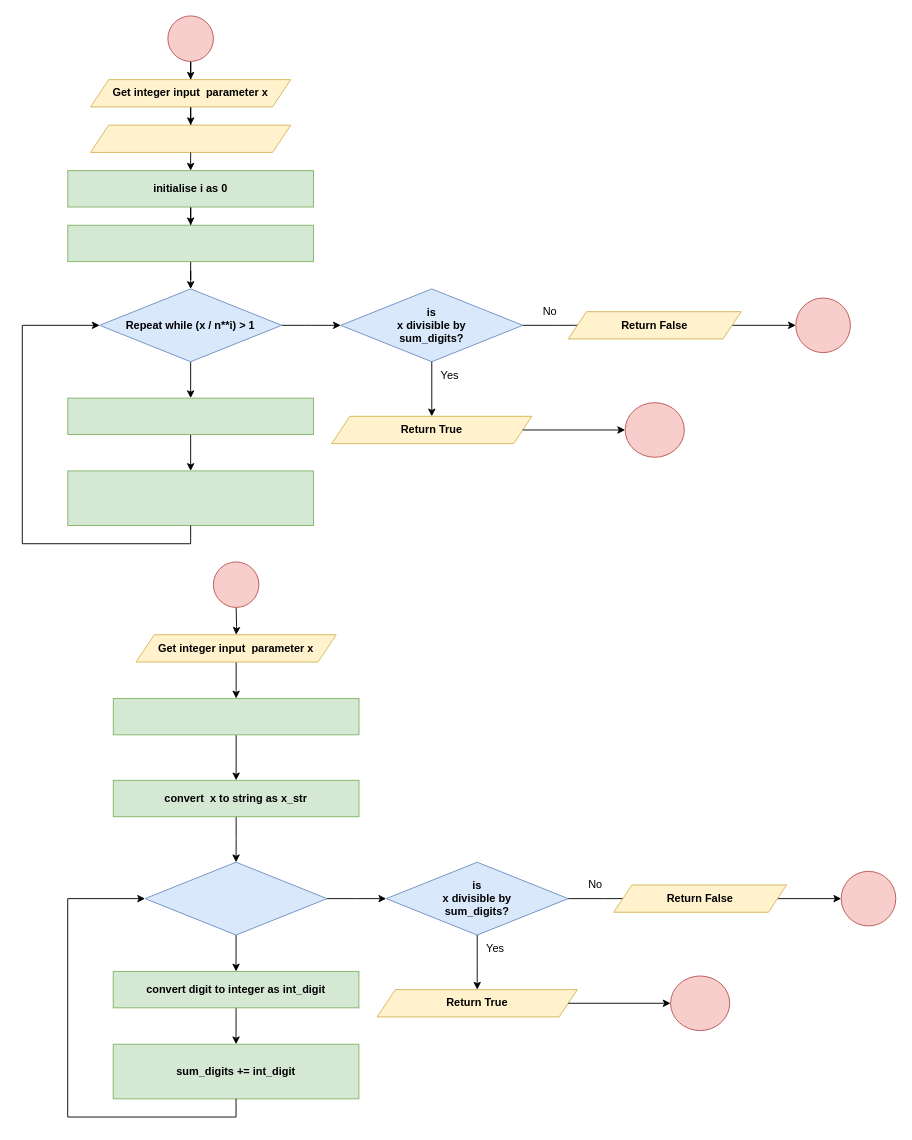
This 912x1140 diagram has some shape labels left out. The centre of each missing label's shape, as x and y in pixels:
"for every digit in x_str" goes at (235,898).
"Get integer input parameter n" goes at (190,138).
"i+=1" goes at (190,498).
"initialise sum_digits as 0" goes at (190,243).
"sum_digits += (x // (n**i)) % n" goes at (190,416).
"sum_digits as 0" goes at (235,716).
